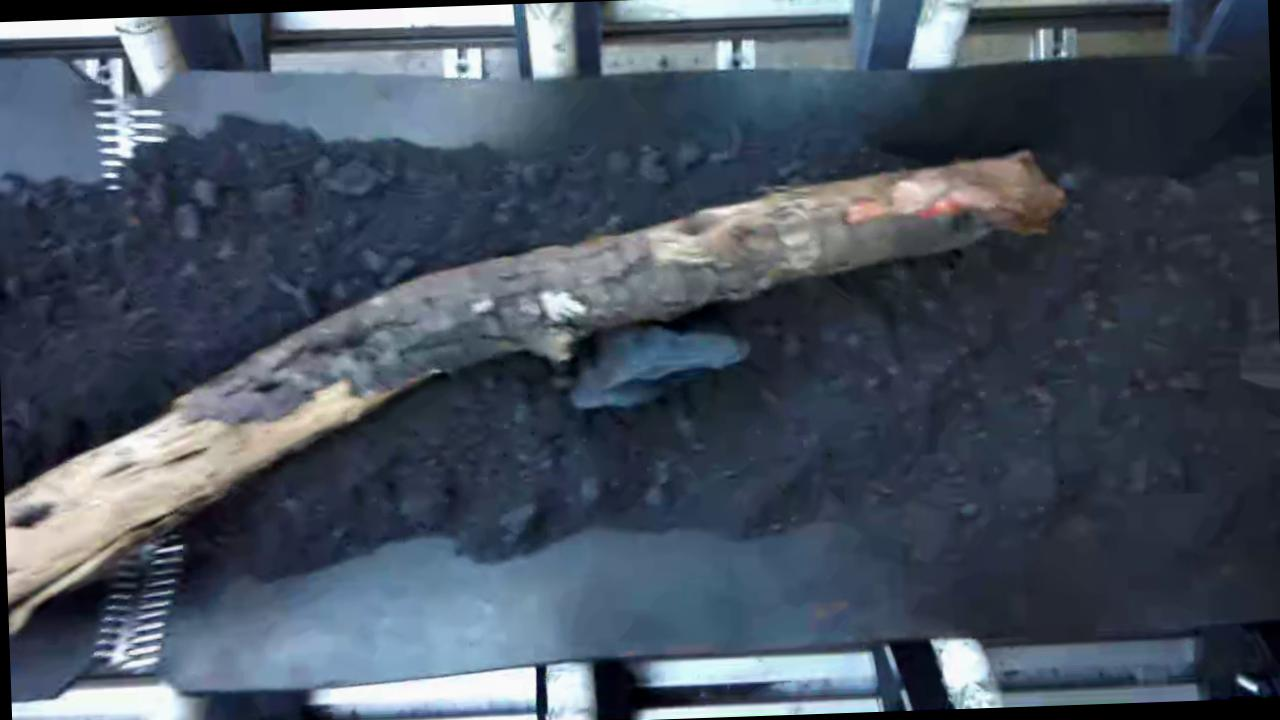conveyor: (0, 62, 1280, 658)
